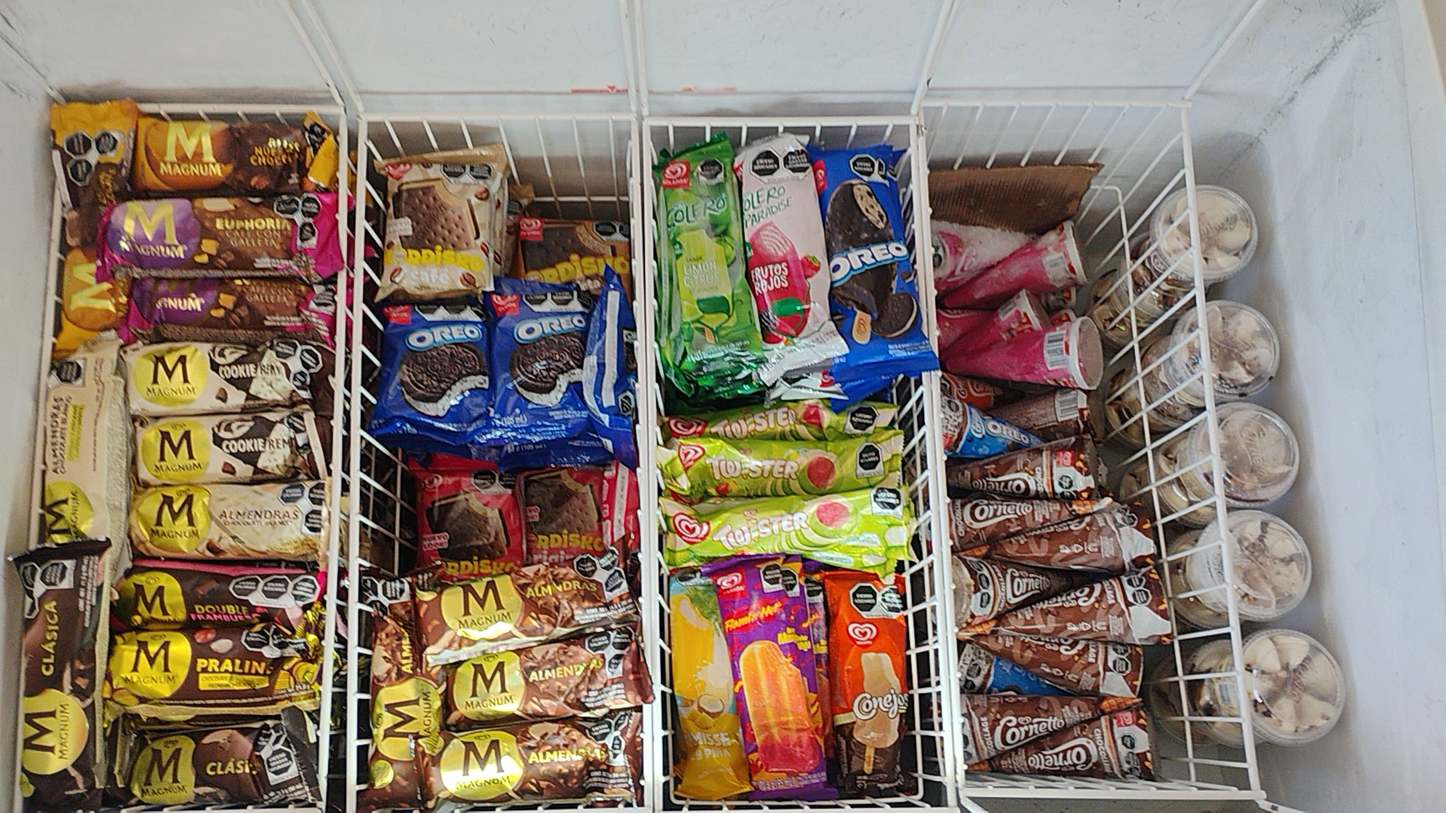rejilla: (1180, 107, 1261, 790), (923, 371, 958, 804), (318, 263, 346, 802), (346, 119, 367, 811), (931, 372, 962, 798), (644, 117, 663, 810), (28, 175, 63, 548), (632, 122, 653, 678), (918, 110, 938, 358), (911, 126, 929, 340), (964, 787, 1267, 799), (646, 115, 916, 127), (358, 111, 637, 122), (917, 97, 1192, 107), (161, 103, 345, 114), (338, 114, 348, 262), (643, 703, 652, 811), (317, 802, 325, 812)
